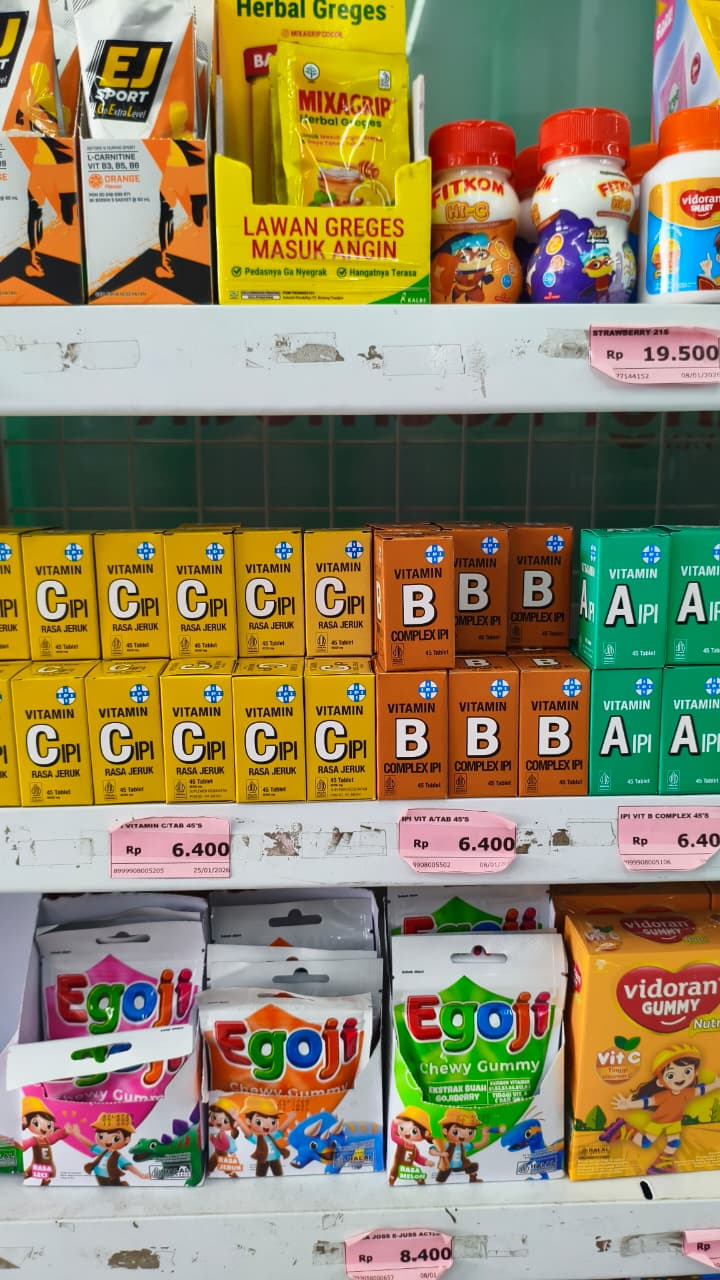Egoji: (385, 934, 564, 1134), (193, 959, 372, 1159)
Vitamin A IPI: (592, 527, 670, 689)
Vitamin B Complex IPI: (441, 658, 520, 801)
Vitamin Cipi: (297, 506, 377, 673)
